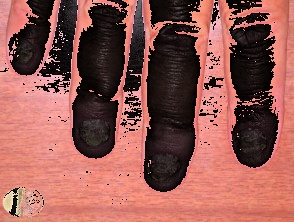Nail_psoriasis: (0, 24, 51, 76), (142, 143, 190, 193), (227, 118, 274, 163), (74, 109, 115, 154)
